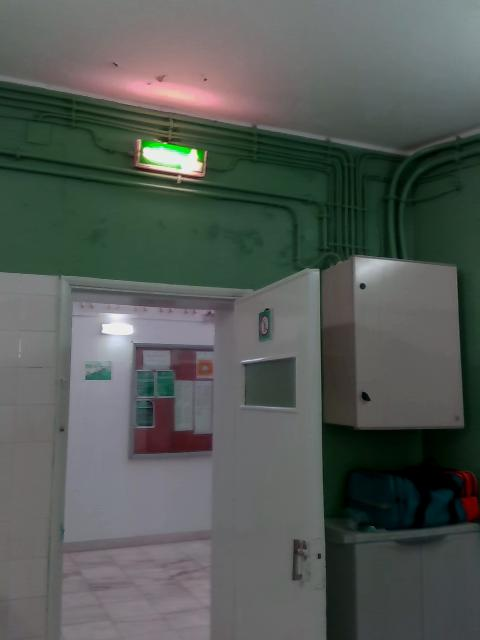open_door: (49, 273, 255, 639)
